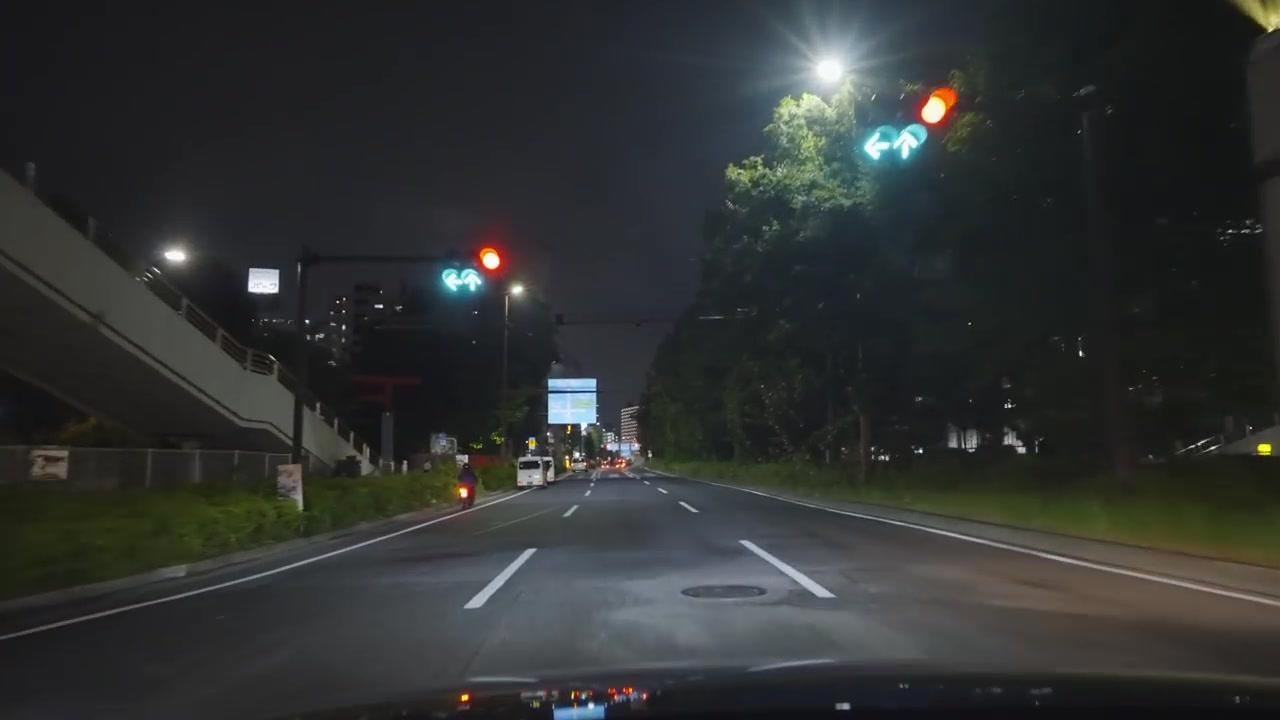car: (515, 455, 552, 488), (456, 464, 478, 507)
traffic light: (906, 86, 960, 143), (476, 245, 506, 278), (527, 436, 537, 449)
truck: (516, 455, 552, 488)
